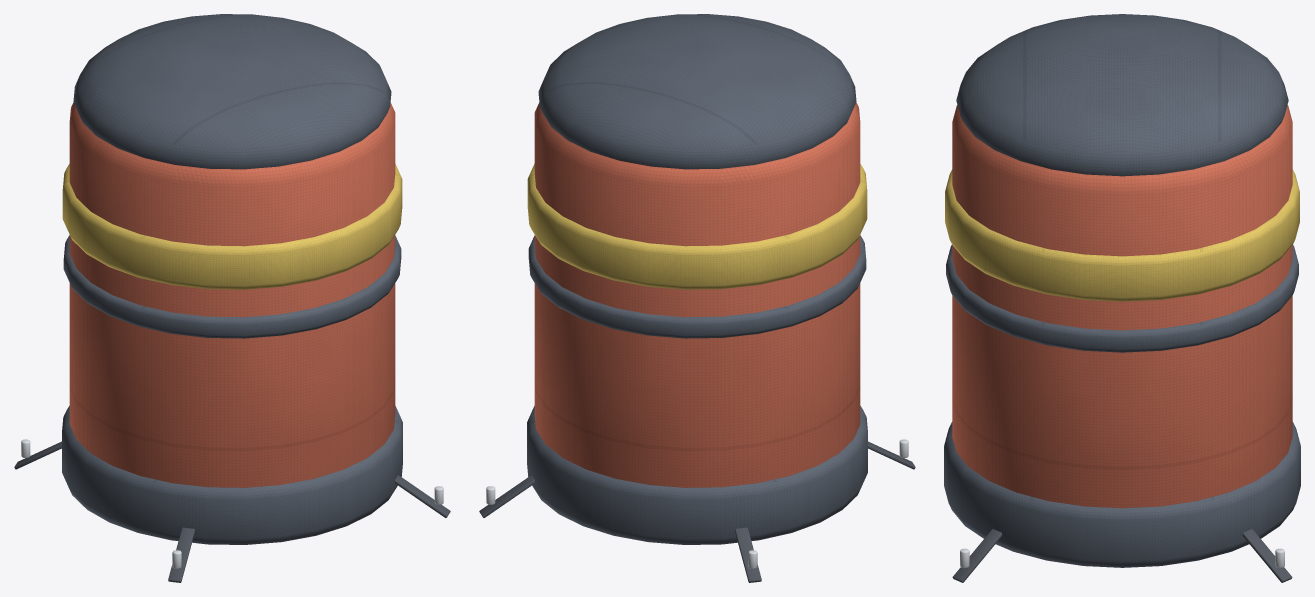
Rendered from bunker_cylinder_red.glb.
3 views of the same model, side by side, from view 1: azimuth 30°, elevation 25°; view 2: azimuth 150°, elevation 25°; view 3: azimuth 270°, elevation 25° (orthographic). The views are drawn at different scales.
Visible parts, largest first — view 1: CylBody, CylTopDome, CylBaseRing, CylBandUpper, CylBandLower, Strap_2, Strap_3; view 2: CylBody, CylTopDome, CylBaseRing, CylBandUpper, CylBandLower, Strap_1, Strap_0; view 3: CylBody, CylTopDome, CylBaseRing, CylBandUpper, CylBandLower, Strap_0, Strap_3.
Boxes of the visible parts, bbox=[...] form: CylBody: bbox=[69, 102, 395, 487]; CylTopDome: bbox=[73, 14, 391, 169]; CylBaseRing: bbox=[62, 406, 402, 544]; CylBandUpper: bbox=[62, 164, 402, 289]; CylBandLower: bbox=[63, 235, 401, 338]; Strap_2: bbox=[168, 527, 194, 582]; Strap_3: bbox=[395, 475, 450, 517]; CylBody: bbox=[534, 102, 860, 487]; CylTopDome: bbox=[538, 14, 856, 169]; CylBaseRing: bbox=[527, 406, 867, 544]; CylBandUpper: bbox=[527, 164, 867, 289]; CylBandLower: bbox=[528, 235, 866, 338]; Strap_1: bbox=[735, 527, 761, 582]; Strap_0: bbox=[479, 475, 534, 517]; CylBody: bbox=[952, 105, 1292, 508]; CylTopDome: bbox=[956, 14, 1288, 176]; CylBaseRing: bbox=[944, 422, 1300, 567]; CylBandUpper: bbox=[945, 169, 1299, 301]; CylBandLower: bbox=[946, 245, 1298, 352]; Strap_0: bbox=[1242, 529, 1292, 582]; Strap_3: bbox=[952, 529, 1002, 582].
Size of the model in its own units: 1.76 by 2.52 by 1.76.
5 materials, 3 textured.
